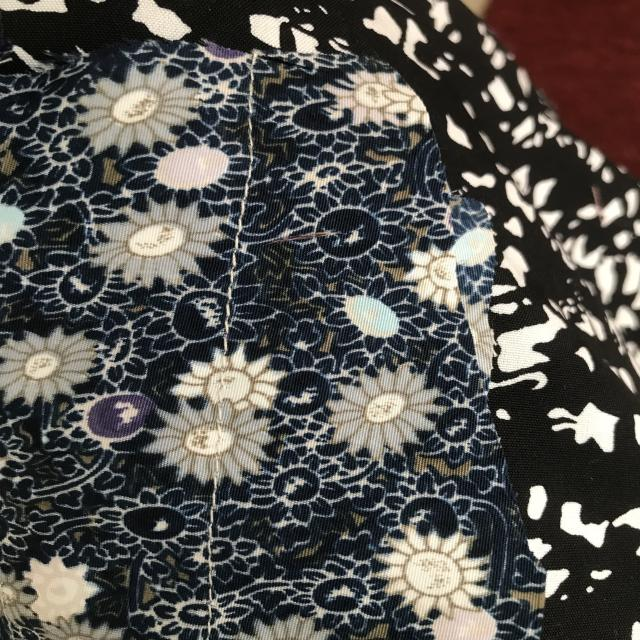good: (201, 485, 226, 618), (229, 195, 255, 271)
